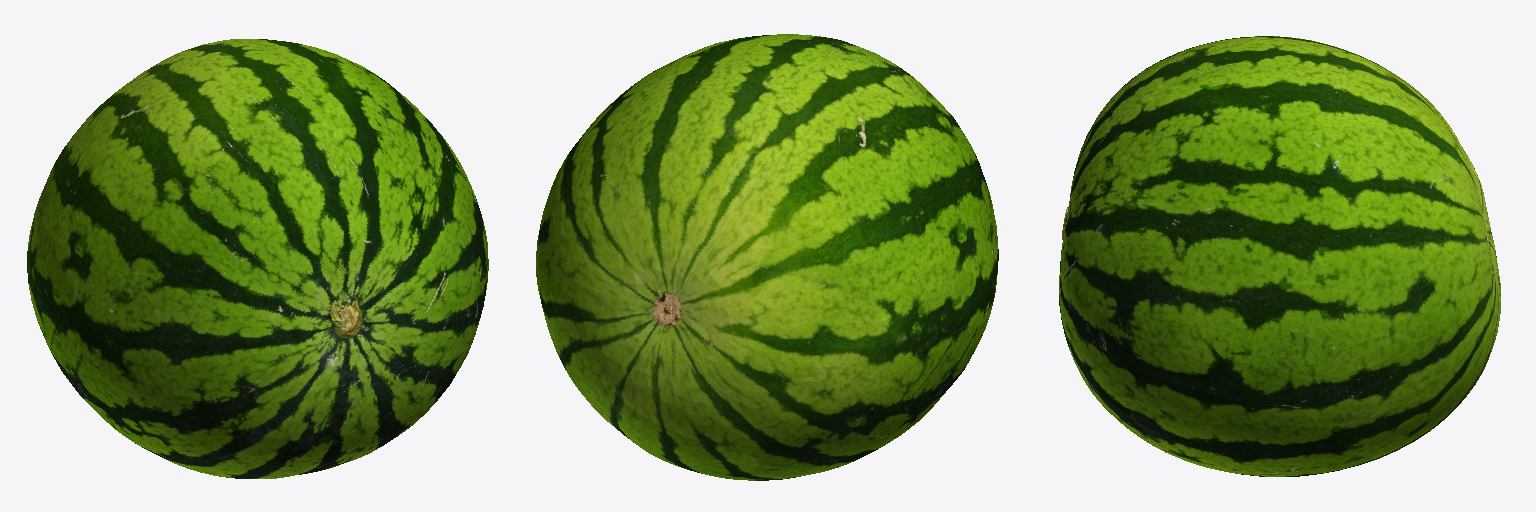
3 renders of one model, left to right at view 1: azimuth 30°, elevation 25°; view 2: azimuth 150°, elevation 25°; view 3: azimuth 270°, elevation 25°, orthographic.
Visible parts, largest first — view 1: SQ; view 2: SQ; view 3: SQ.
Part boxes in pixels (x1,y1,x2,y2): SQ: (27, 39, 488, 478); SQ: (536, 34, 998, 480); SQ: (1059, 36, 1500, 476).
Size of the model in its own units: 0.2464 by 0.2384 by 0.241.
Materials: 1 (1 with a texture image).